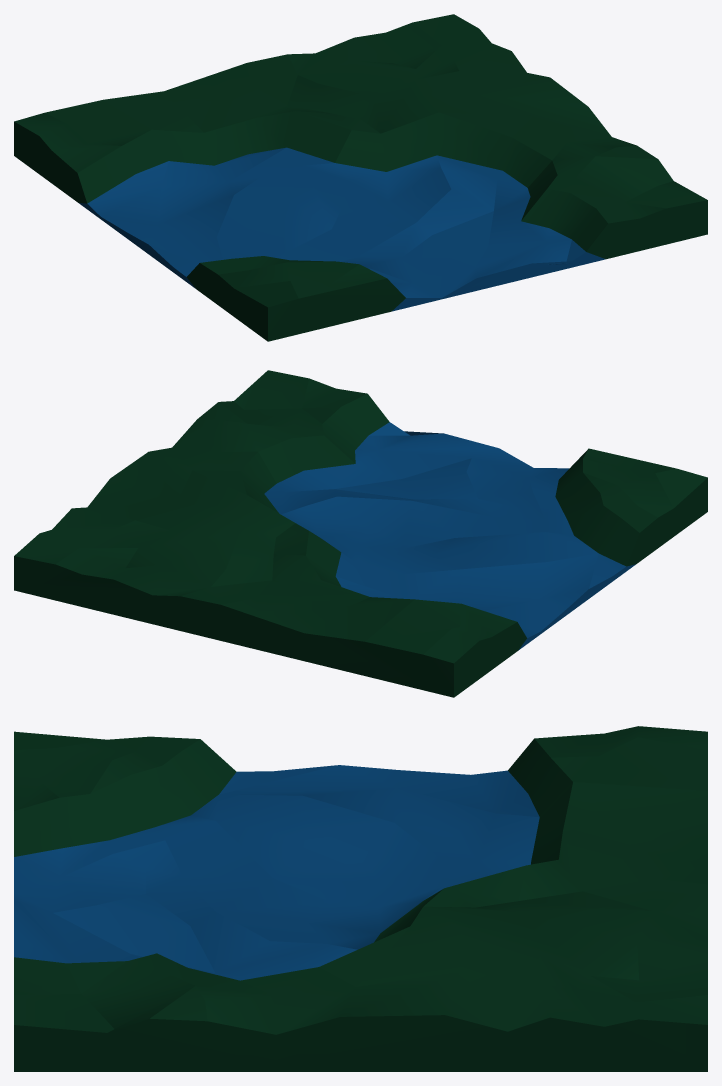
Rendered from Water_Turn_RU.fbx.
3 views of the same model, one above another, from view 1: azimuth 30°, elevation 25°; view 2: azimuth 150°, elevation 25°; view 3: azimuth 270°, elevation 25° (orthographic). The views are drawn at different scales.
Parts seen in each view (by area): view 1: Water_Turn_RU; view 2: Water_Turn_RU; view 3: Water_Turn_RU.
Part boxes in pixels (box(x1,y1,x2,y2)): Water_Turn_RU: box(14, 14, 707, 341); Water_Turn_RU: box(14, 370, 707, 697); Water_Turn_RU: box(14, 726, 707, 1071).
Bounding box in the file's own units: 147 × 15.12 × 147.
